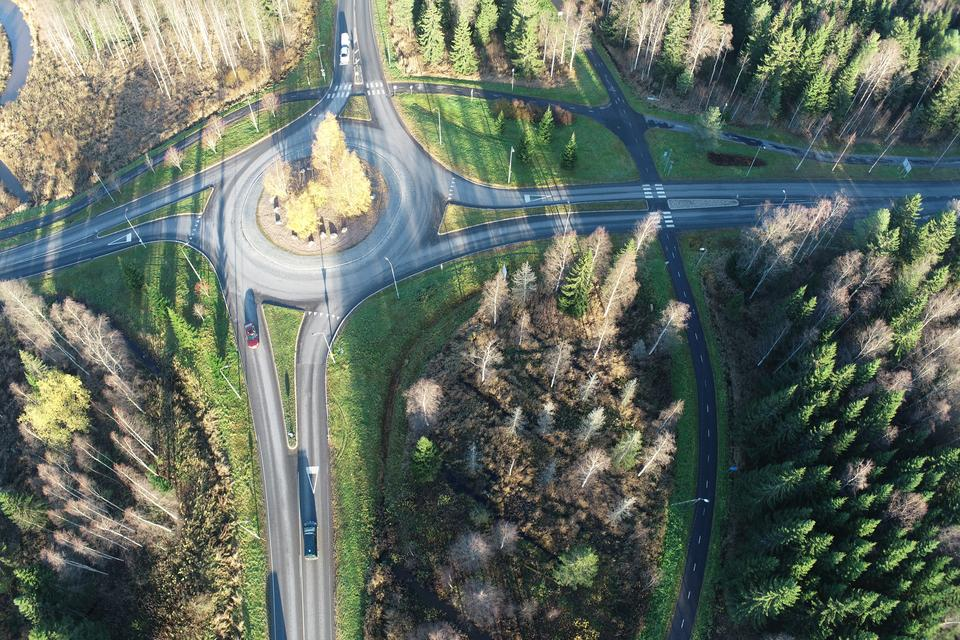intersection: (629, 164, 713, 264), (308, 64, 405, 97)
roundabout: (154, 106, 486, 366)
